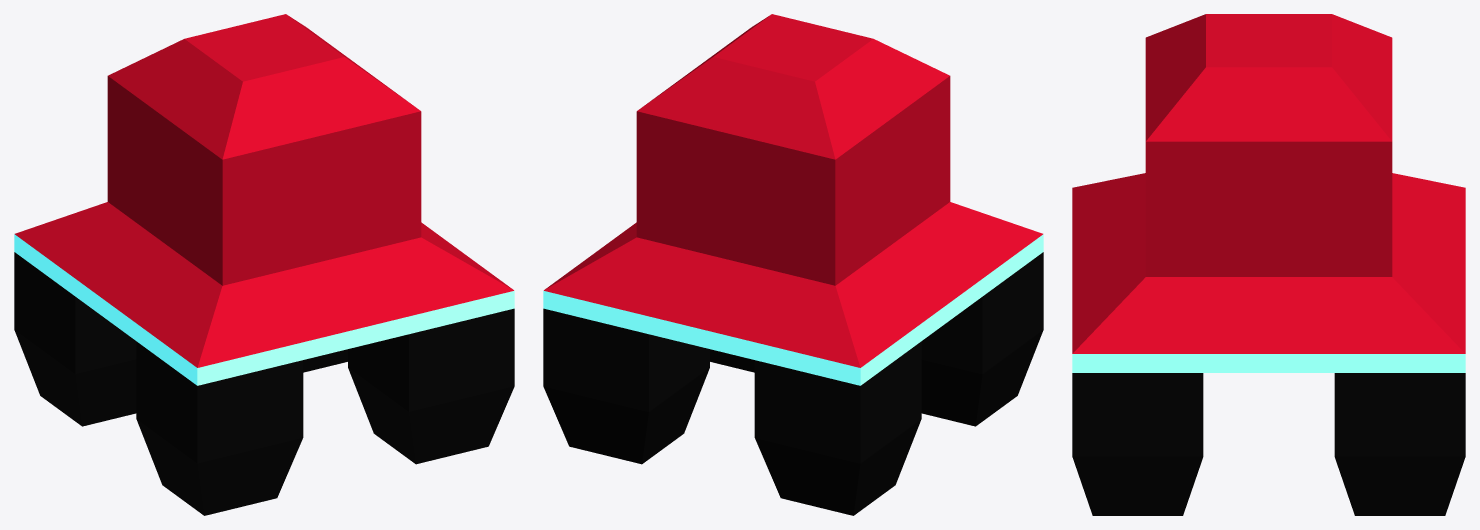
Rendered from Armored.glb.
3 views of the same model, side by side, from view 1: azimuth 30°, elevation 25°; view 2: azimuth 150°, elevation 25°; view 3: azimuth 270°, elevation 25° (orthographic). The views are drawn at different scales.
Parts seen in each view (by area): view 1: Cube; view 2: Cube; view 3: Cube.
Boxes of the visible parts, x1,y1,x2,y2 form: Cube: (14, 14, 514, 515); Cube: (543, 14, 1043, 515); Cube: (1072, 14, 1465, 515).
Bounding box in the file's own units: 3.61 × 4.06 × 3.61.
